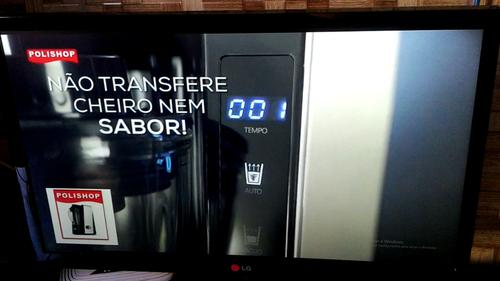Polishop #1: (46, 188, 119, 246)
